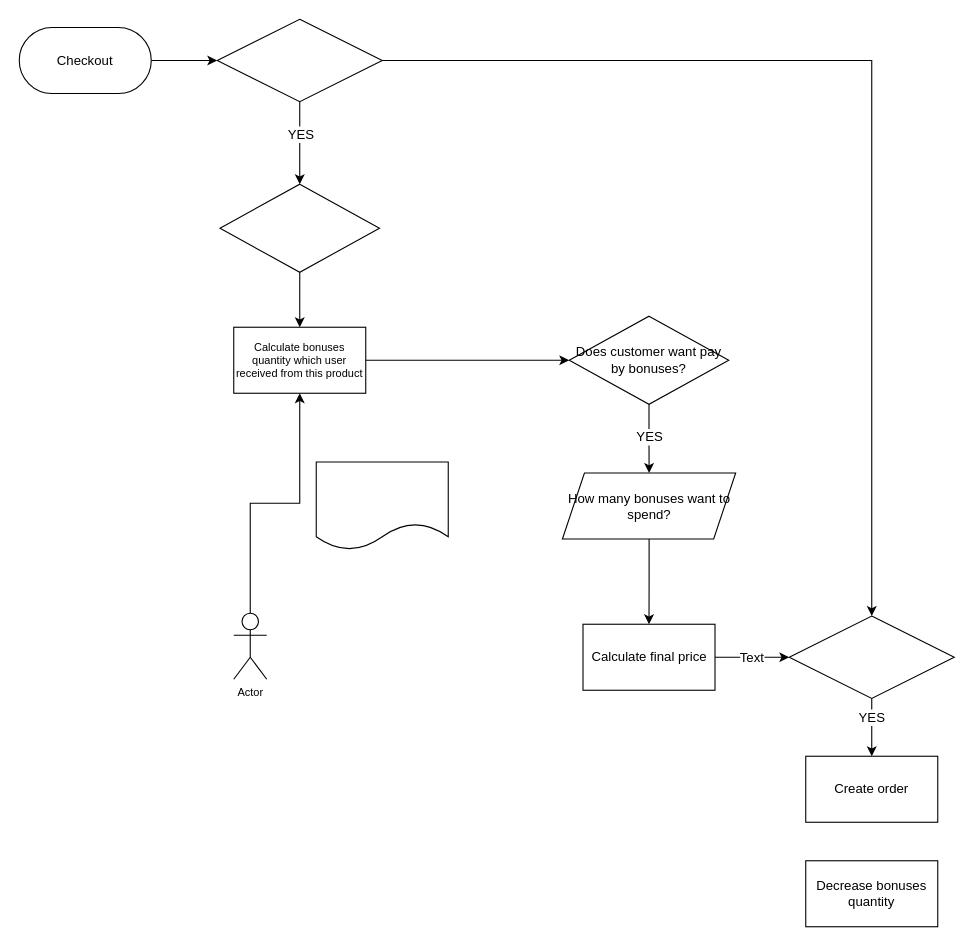
This 974x946 diagram has some shape labels left out. The shapes that lost their labels are listed below. From the top down, each one's centre as x and y in pixels, then its label:
At point 299,60: "Is this product can be payed by bonuses?".
At point 299,227: "Is this product accrues bonuses?".
At point 381,505: "Bonus count".
At point 871,656: "Does customer approve order?".
